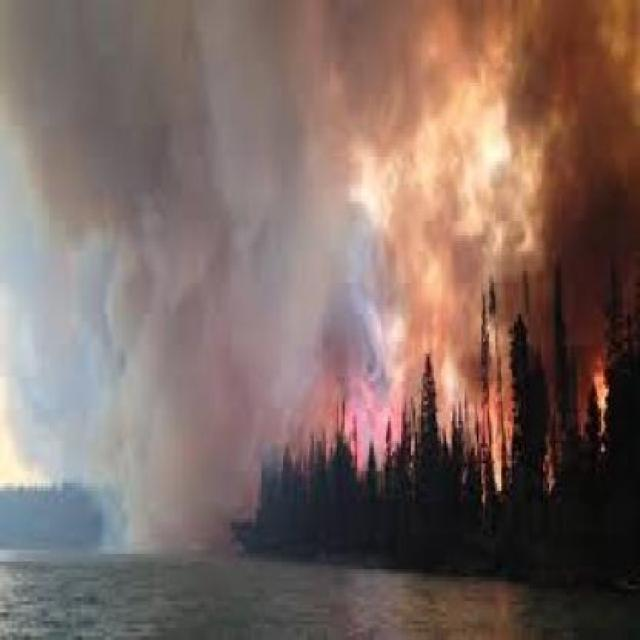Fire: (276, 328, 552, 482)
Smoke: (0, 0, 360, 562), (293, 0, 640, 335)
